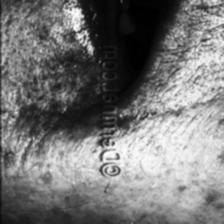Toxin: (23, 60, 98, 130)
